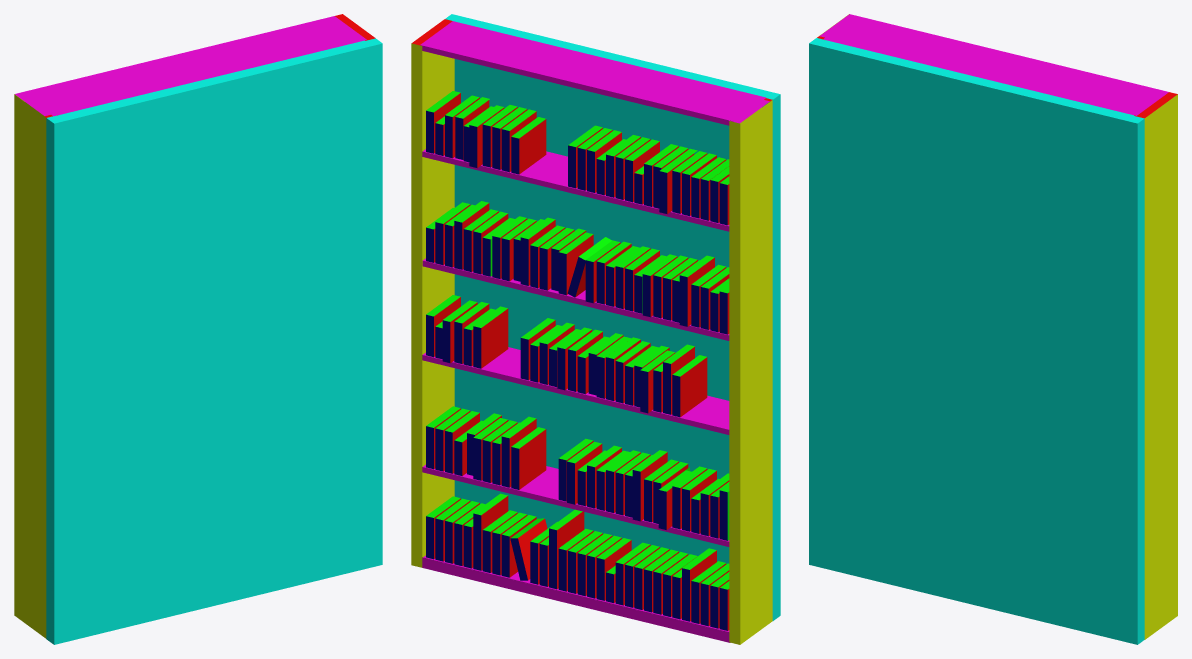
The model's file is bookshelf_final 1.fbx.
The picture shows the model from 3 angles, left to right: view 1: azimuth 30°, elevation 25°; view 2: azimuth 150°, elevation 25°; view 3: azimuth 330°, elevation 25°; orthographic projection.
Parts seen in each view (by area): view 1: Bookshelf; view 2: Bookshelf; view 3: Bookshelf.
Part boxes in pixels (x1,y1,x2,y2): Bookshelf: (14,14,382,644); Bookshelf: (411,14,780,644); Bookshelf: (809,14,1177,644).
Size of the model in its own units: 236 by 358 by 54.35.
